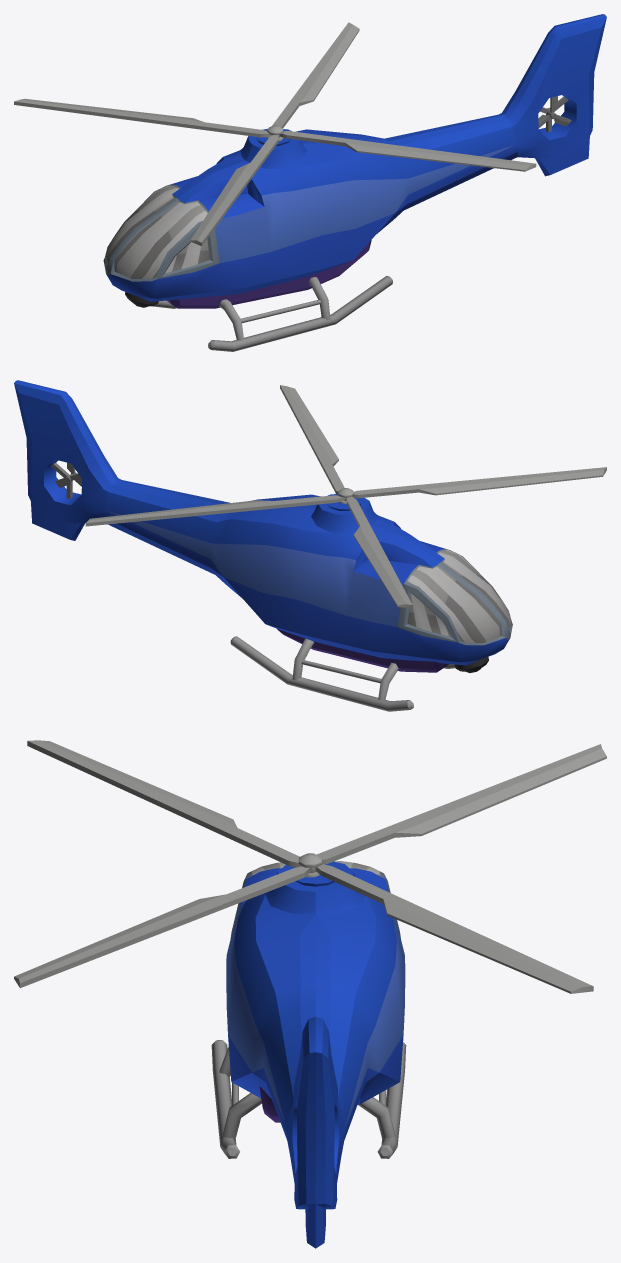
The model's file is Helicopter_1_E.fbx.
3 views of the same model, one above another, from view 1: azimuth 30°, elevation 25°; view 2: azimuth 150°, elevation 25°; view 3: azimuth 270°, elevation 25° (orthographic). The views are drawn at different scales.
Visible parts, largest first — view 1: Helicopter_1_E, Rotator_main, Rotator_Back; view 2: Helicopter_1_E, Rotator_main, Rotator_Back; view 3: Helicopter_1_E, Rotator_main.
Boxes of the visible parts, x1,y1,x2,y2 form: Helicopter_1_E: (103, 14, 606, 351); Rotator_main: (14, 22, 536, 245); Rotator_Back: (538, 96, 571, 132); Helicopter_1_E: (14, 380, 512, 711); Rotator_main: (85, 385, 606, 608); Rotator_Back: (51, 462, 81, 498); Helicopter_1_E: (211, 861, 406, 1248); Rotator_main: (14, 740, 606, 993).
Size of the model in its own units: 1055 by 429 by 719.
